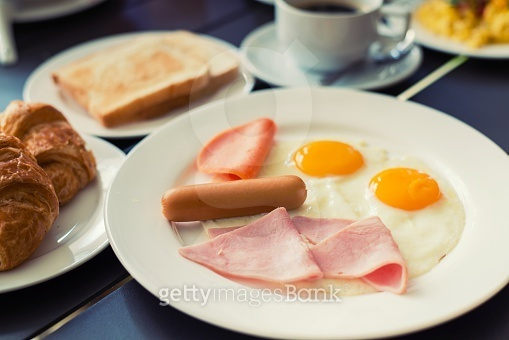fried egg: (257, 136, 470, 269)
slice of bread: (41, 30, 246, 125)
